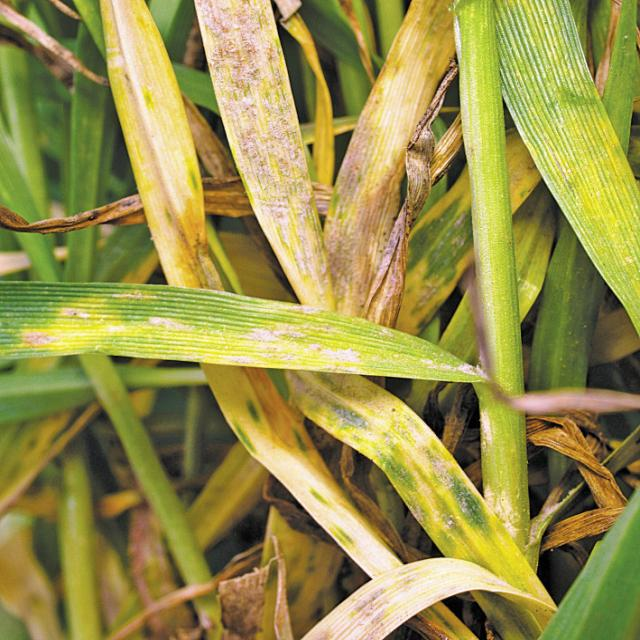wheat-powdery-mildew: (0, 281, 490, 382), (284, 368, 509, 555), (474, 399, 529, 553)
